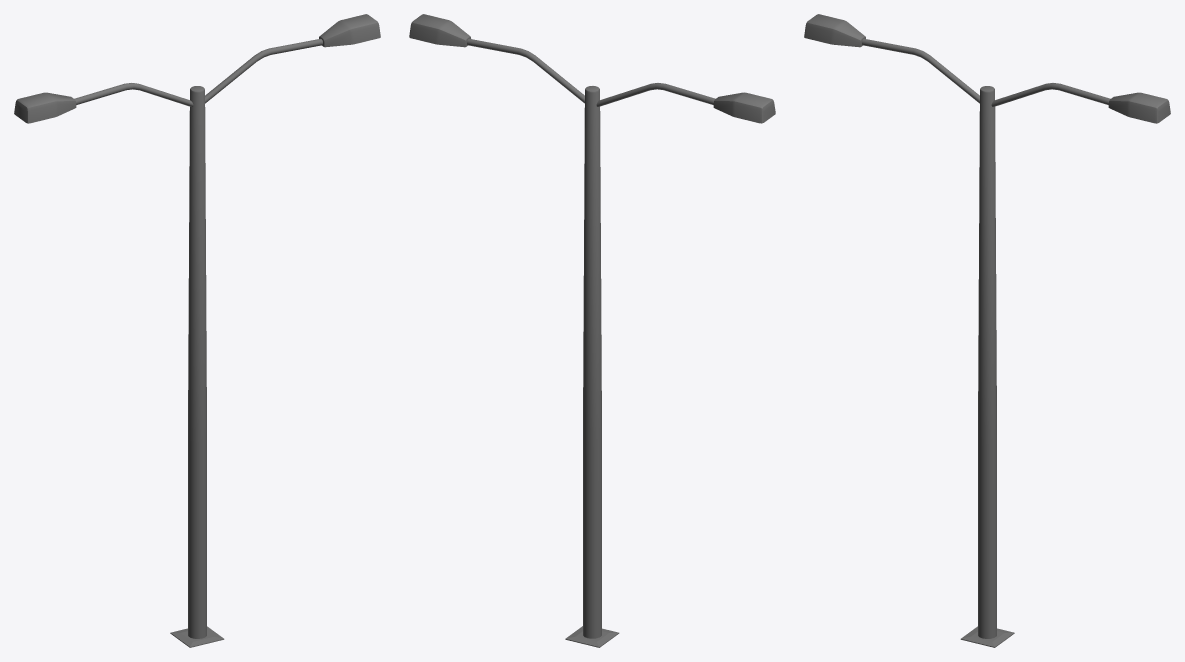
The model's file is postesluzdoble.fbx.
3 views of the same model, side by side, from view 1: azimuth 30°, elevation 25°; view 2: azimuth 150°, elevation 25°; view 3: azimuth 330°, elevation 25° (orthographic).
Parts seen in each view (by area): view 1: Cylinder; view 2: Cylinder; view 3: Cylinder.
Boxes of the visible parts, x1=… form: Cylinder: x1=14, y1=14, x2=380, y2=647; Cylinder: x1=409, y1=14, x2=775, y2=647; Cylinder: x1=804, y1=14, x2=1170, y2=647.
Size of the model in its own units: 166 by 259 by 16.05.
Materials: 1 (1 with a texture image).
